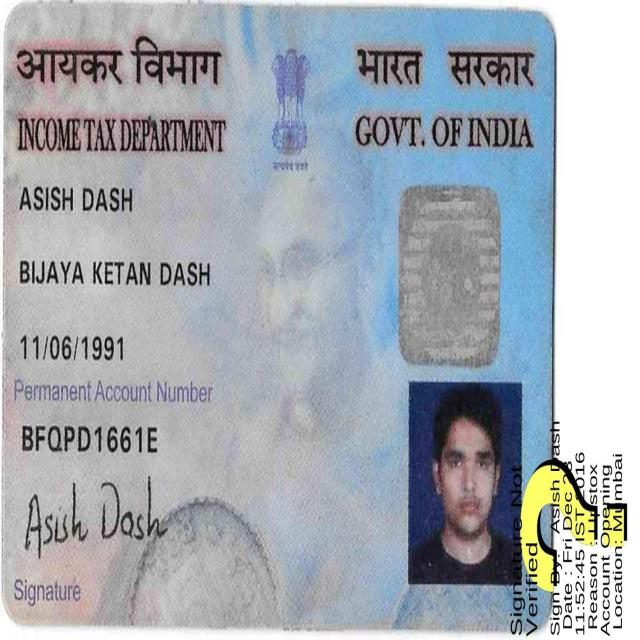pan_card: (2, 0, 548, 625)
